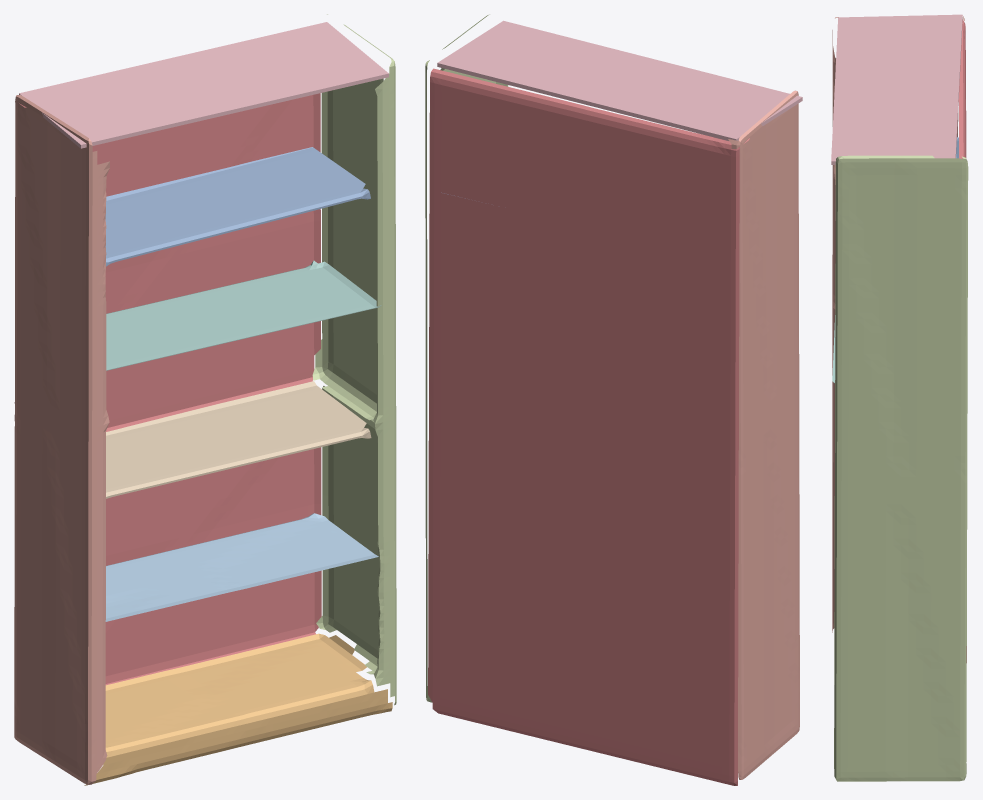
File: 47945_assembly.glb
3 views of the same model, side by side, from view 1: azimuth 30°, elevation 25°; view 2: azimuth 150°, elevation 25°; view 3: azimuth 270°, elevation 25° (orthographic). The views are drawn at different scales.
Visible parts, largest first — view 1: part_00, part_01, part_05, part_02, part_03, part_04, part_08, part_06, part_07; view 2: part_00, part_01, part_03, part_05; view 3: part_05, part_03, part_01, part_00.
Boxes of the visible parts, x1,y1,x2,y2 form: part_00: [15, 93, 321, 685]; part_01: [14, 95, 109, 784]; part_05: [312, 14, 396, 705]; part_02: [84, 633, 392, 785]; part_03: [19, 22, 388, 148]; part_04: [106, 381, 371, 498]; part_08: [105, 147, 370, 266]; part_06: [106, 260, 381, 370]; part_07: [105, 513, 378, 621]; part_00: [428, 68, 749, 785]; part_01: [728, 90, 799, 779]; part_03: [437, 20, 802, 140]; part_05: [425, 14, 508, 702]; part_05: [834, 155, 968, 781]; part_03: [831, 14, 962, 164]; part_01: [832, 16, 964, 632]; part_00: [958, 19, 966, 662].
Bounding box in the file's own units: 0.5153 × 1.02 × 0.1997.
